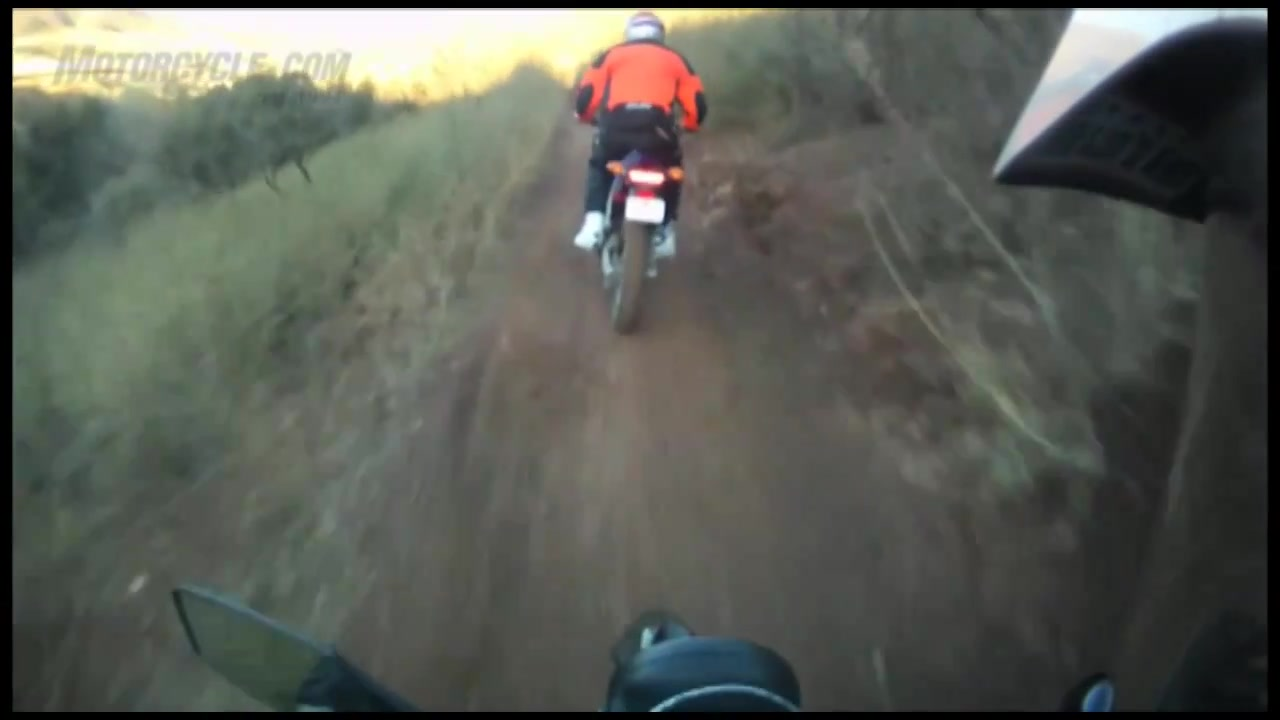motorbike: (581, 141, 691, 339)
